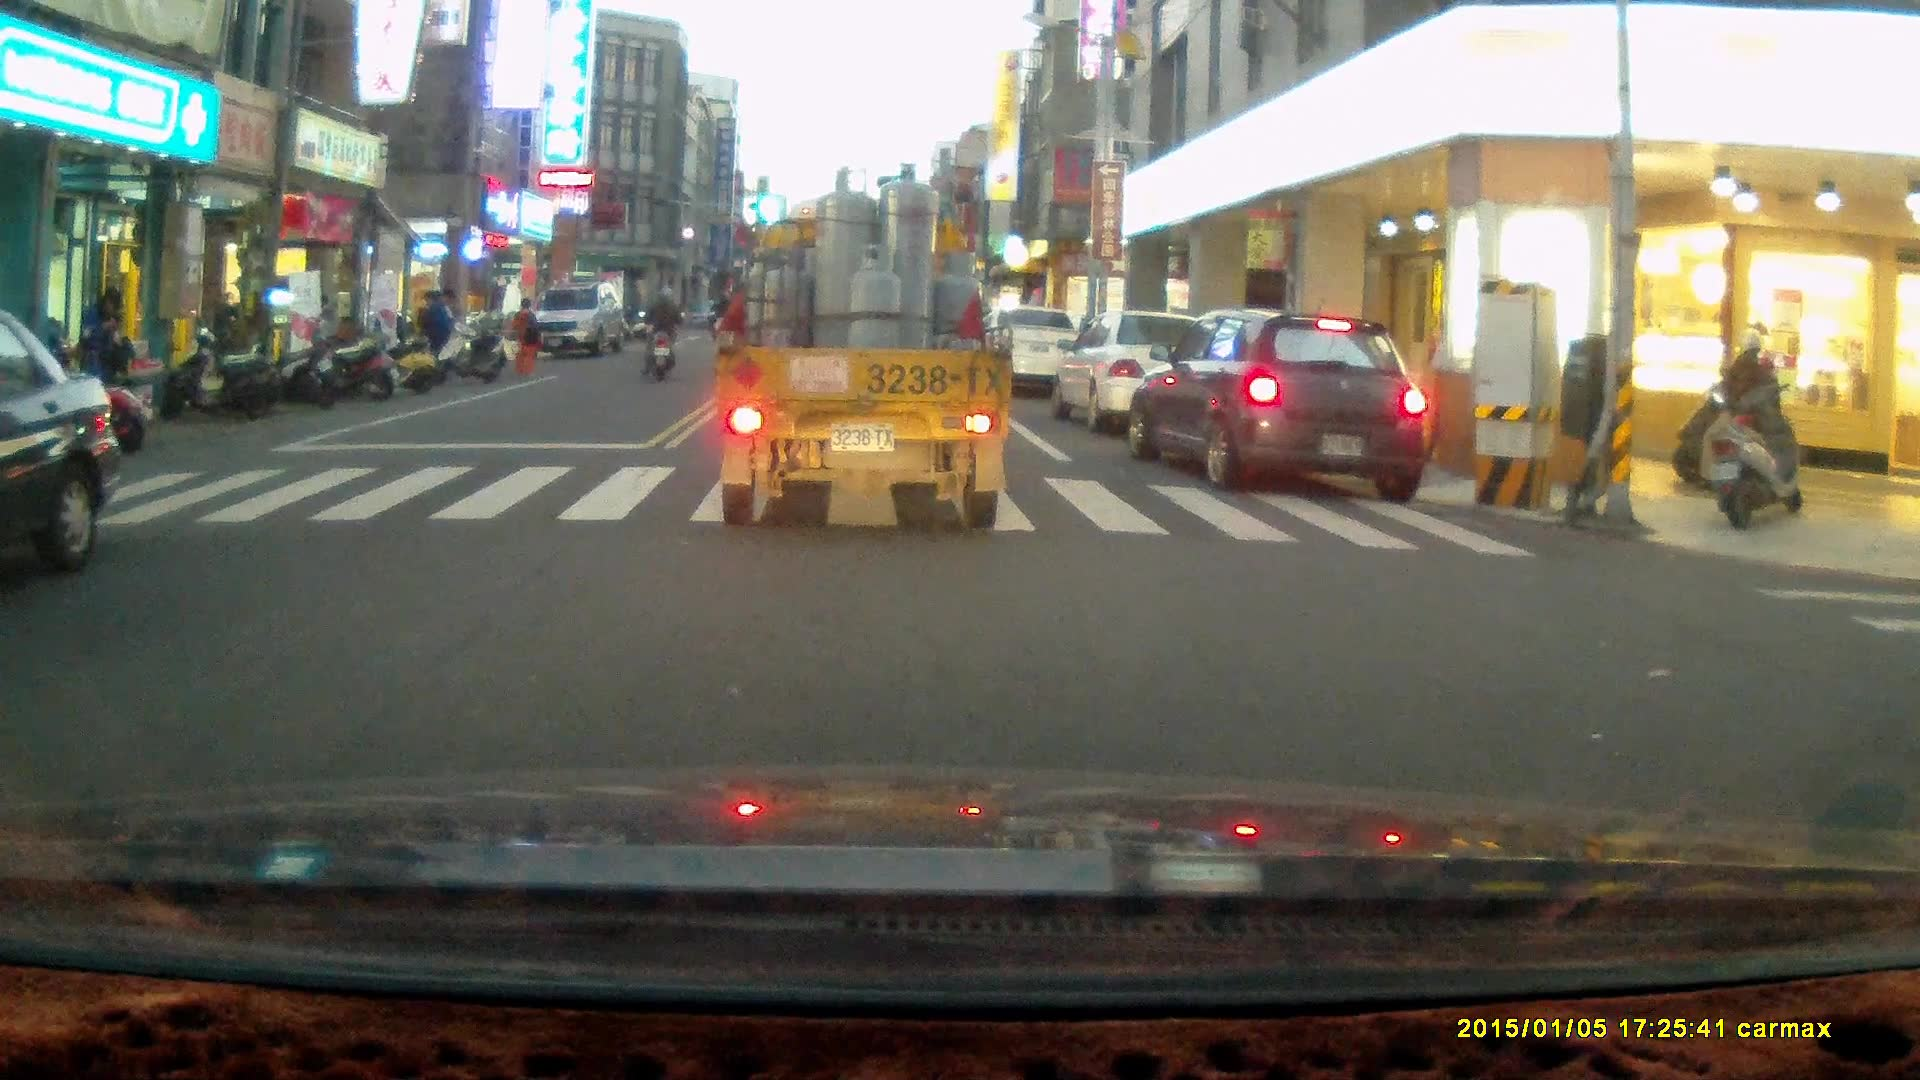pedestrian: (75, 282, 136, 407), (421, 284, 458, 374), (215, 290, 245, 380), (512, 295, 544, 374)
rider: (1671, 325, 1796, 501), (635, 280, 683, 378)
vehicle: (718, 159, 1016, 533), (1121, 309, 1436, 499), (1, 309, 129, 575), (1058, 307, 1238, 431), (976, 306, 1097, 401), (528, 283, 628, 358)
